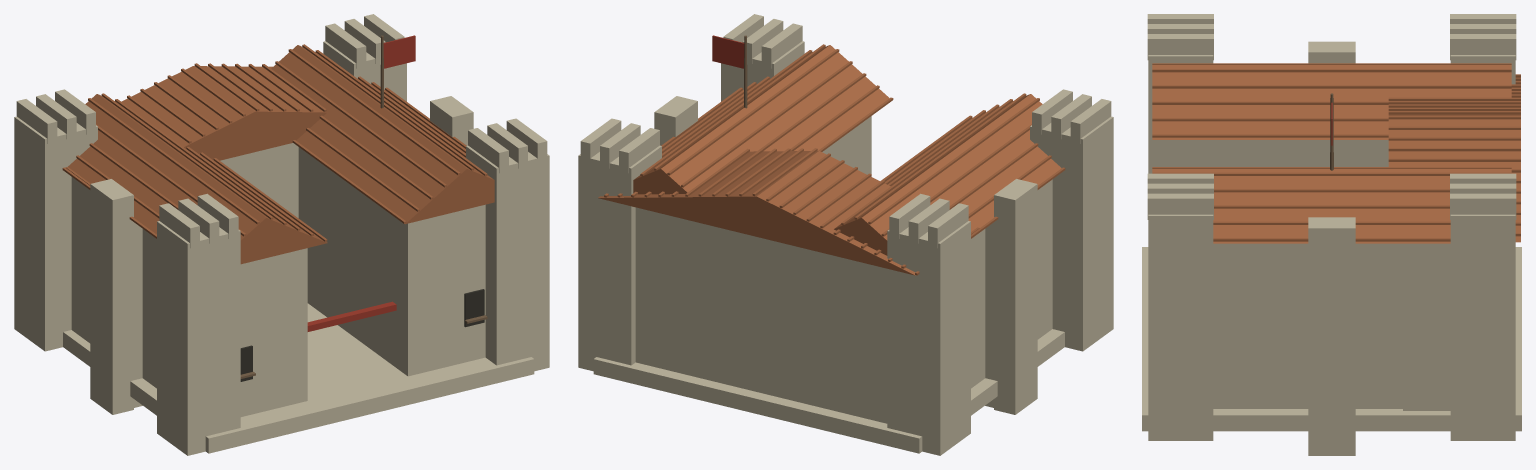
Rendered from b-keep-roman.glb.
3 renders of one model, left to right at view 1: azimuth 30°, elevation 25°; view 2: azimuth 150°, elevation 25°; view 3: azimuth 270°, elevation 25°, orthographic. The views are drawn at different scales.
Visible parts, largest first — view 1: Structure, fortification3, fortification2; view 2: Structure, fortification3, fortification2; view 3: Structure, fortification3.
Part boxes in pixels (<box>): Structure: <box>14,14,549,455</box>; fortification3: <box>90,96,473,414</box>; fortification2: <box>129,222,142,408</box>; Structure: <box>578,14,1113,455</box>; fortification3: <box>654,96,1037,414</box>; fortification2: <box>985,221,998,408</box>; Structure: <box>1142,14,1521,440</box>; fortification3: <box>1308,41,1355,455</box>.
Bounding box in the file's own units: 7.5 × 5.99 × 6.43.
